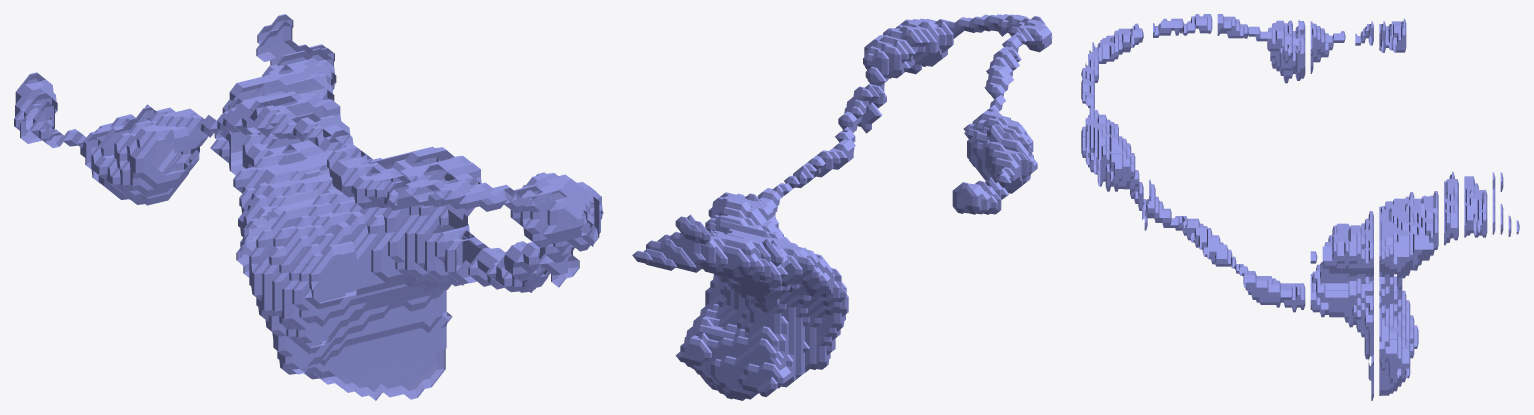
File: SVV_IL1L.gltf
3 views of the same model, side by side, from view 1: azimuth 30°, elevation 25°; view 2: azimuth 150°, elevation 25°; view 3: azimuth 270°, elevation 25° (orthographic). The views are drawn at different scales.
Parts seen in each view (by area): view 1: IL1L; view 2: IL1L; view 3: IL1L.
Boxes of the visible parts, x1,y1,x2,y2 form: IL1L: (14, 14, 603, 400); IL1L: (632, 14, 1052, 400); IL1L: (1081, 14, 1519, 400).
Bounding box in the file's own units: 31761 × 31252 × 41622.
